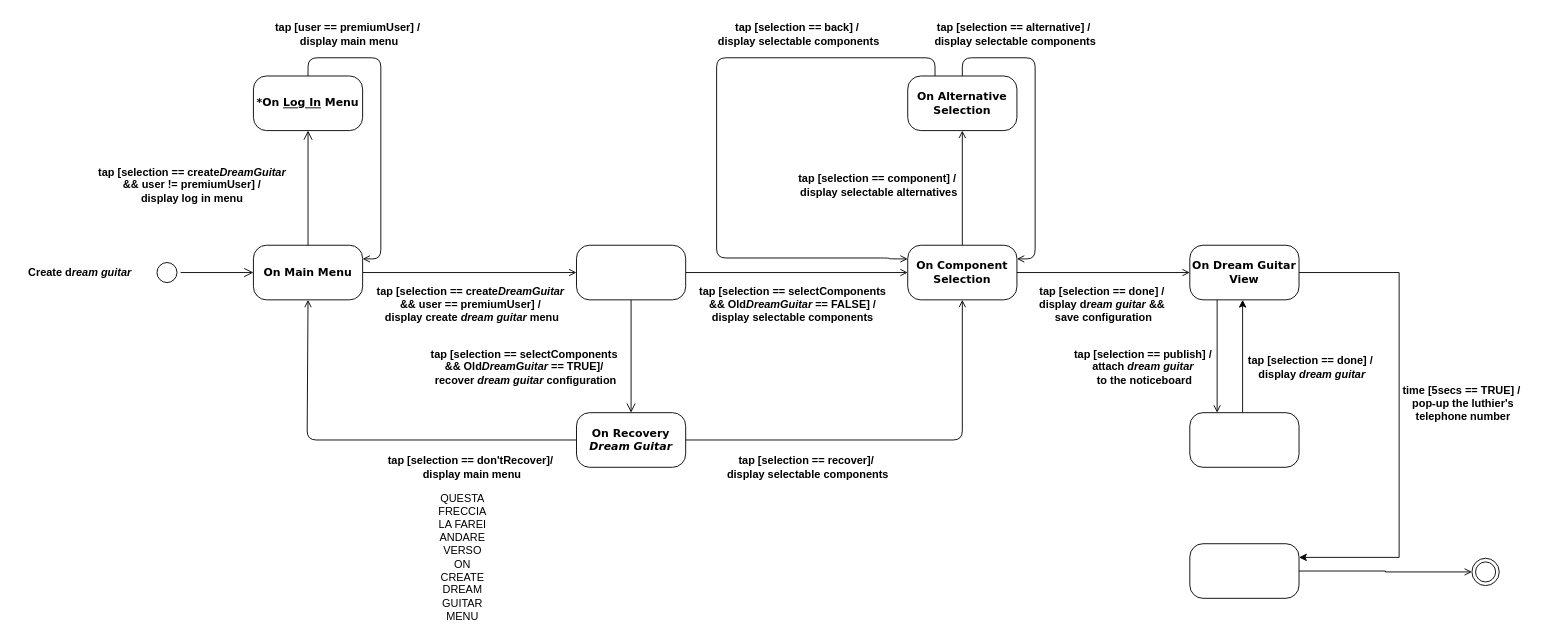
Some shapes in this 1551 by 638 pixel diagram are drawn without their labels. The shapes that lost their labels are listed below. From the top down, each one's centre as x and y in pixels, then its label:
pixel 631 272: On Create Dream Guitar Menu
pixel 1244 439: *On Noticeboard
pixel 1244 570: On Luthier Overview
